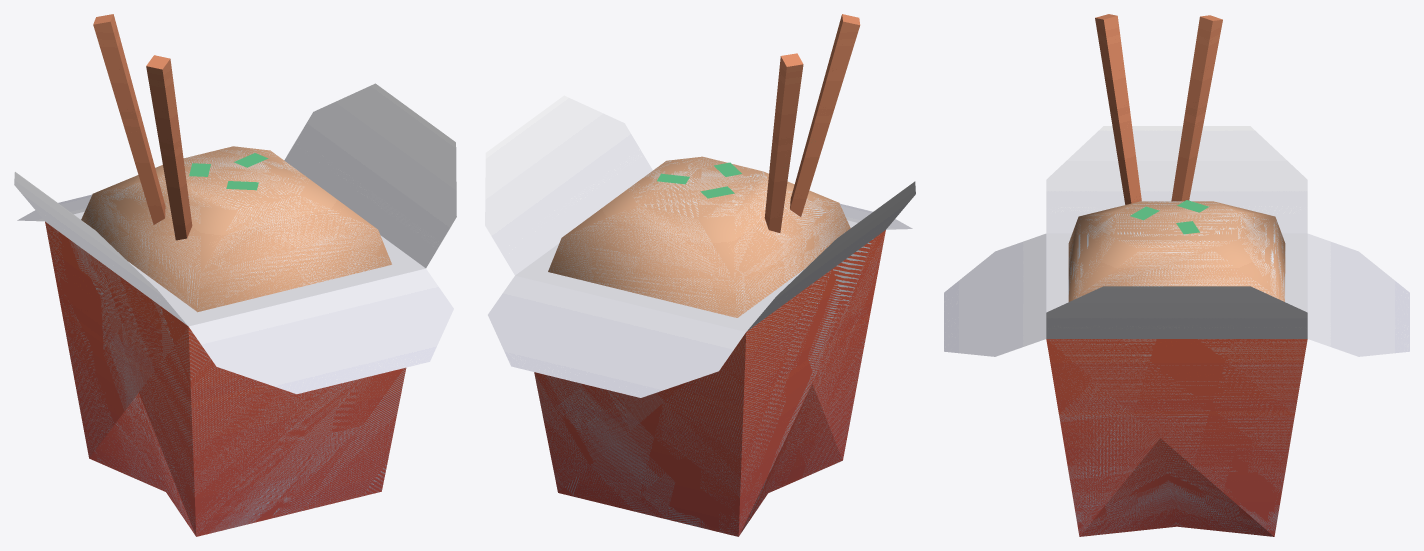
The model's file is chinese.glb.
3 renders of one model, left to right at view 1: azimuth 30°, elevation 25°; view 2: azimuth 150°, elevation 25°; view 3: azimuth 270°, elevation 25°, orthographic. The views are drawn at different scales.
Visible parts, largest first — view 1: chinese, chopstick (×2); view 2: chinese, chopstick (×2); view 3: chinese, chopstick (×2).
Part boxes in pixels (bbox=[...]): chinese: bbox=[14, 83, 456, 536]; chopstick (×2): bbox=[93, 14, 192, 240]; chinese: bbox=[485, 95, 915, 536]; chopstick (×2): bbox=[764, 14, 860, 232]; chinese: bbox=[944, 126, 1409, 536]; chopstick (×2): bbox=[1095, 14, 1222, 204].
Bounding box in the file's own units: 0.4538 × 0.5671 × 0.5575.
Materials: 1 (1 with a texture image).
